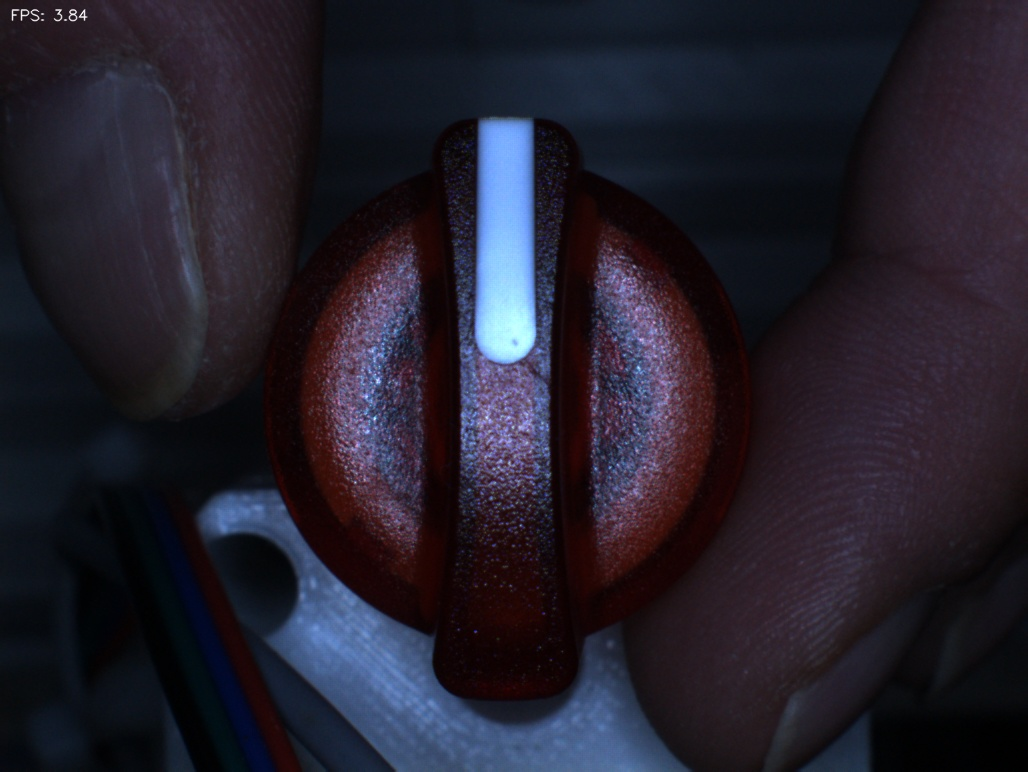PointNoir: (482, 307, 546, 379)
